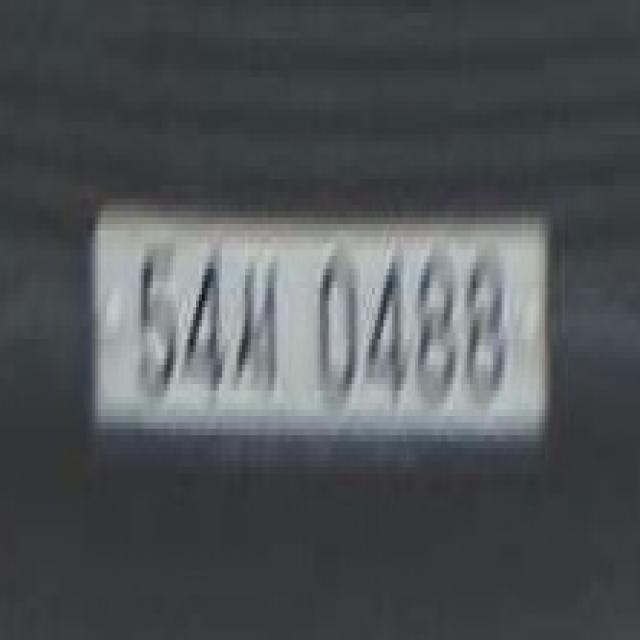0: (312, 250, 361, 416)
4: (176, 230, 225, 404), (366, 224, 407, 416)
5: (130, 224, 176, 416)
8: (458, 230, 514, 410), (410, 243, 456, 403)
license_plate: (98, 205, 562, 448)
seo: (234, 230, 291, 404)
